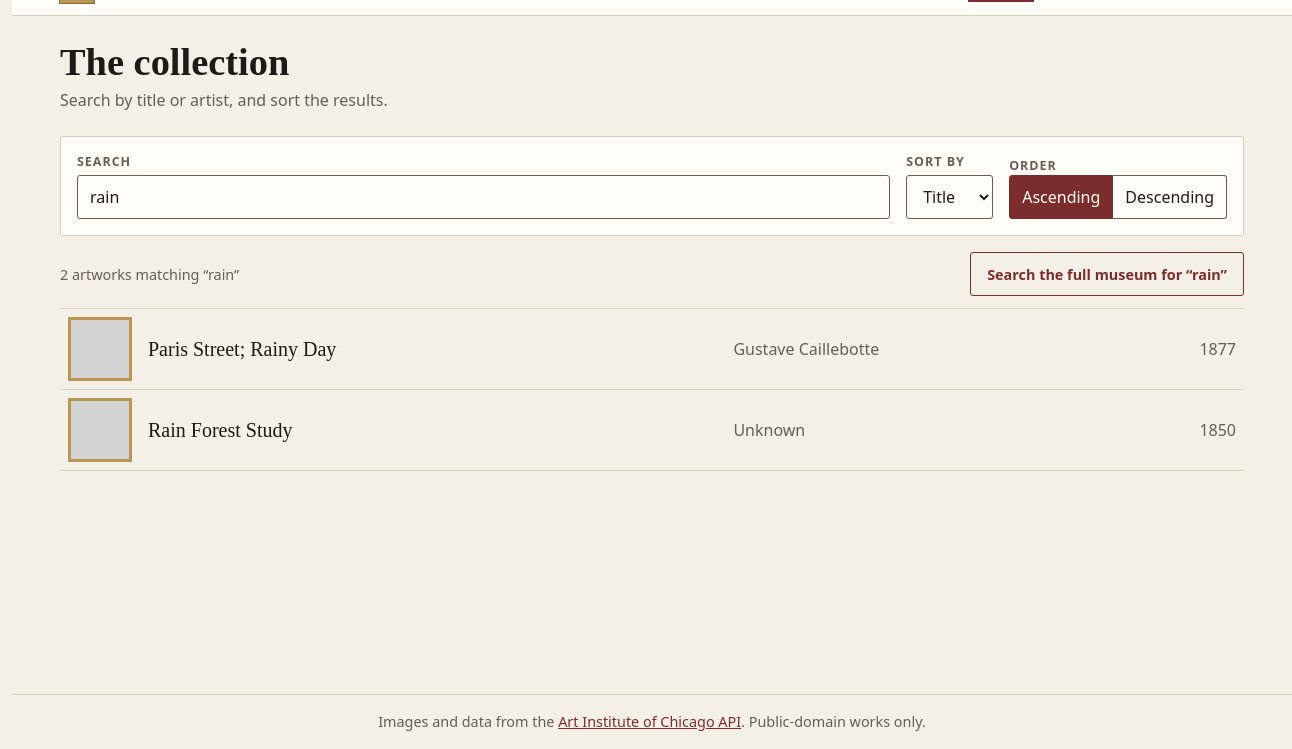
Test case: ListView › keeps the typed text when editing the middle of a search
Expected: the text "2 artworks matching “rain”" is shown, [60,264,239,285]
Type "Th" into the search field labelled "Search". click: {"x": 484, "y": 198}
box: [77,176,890,220]
(page scrolled)
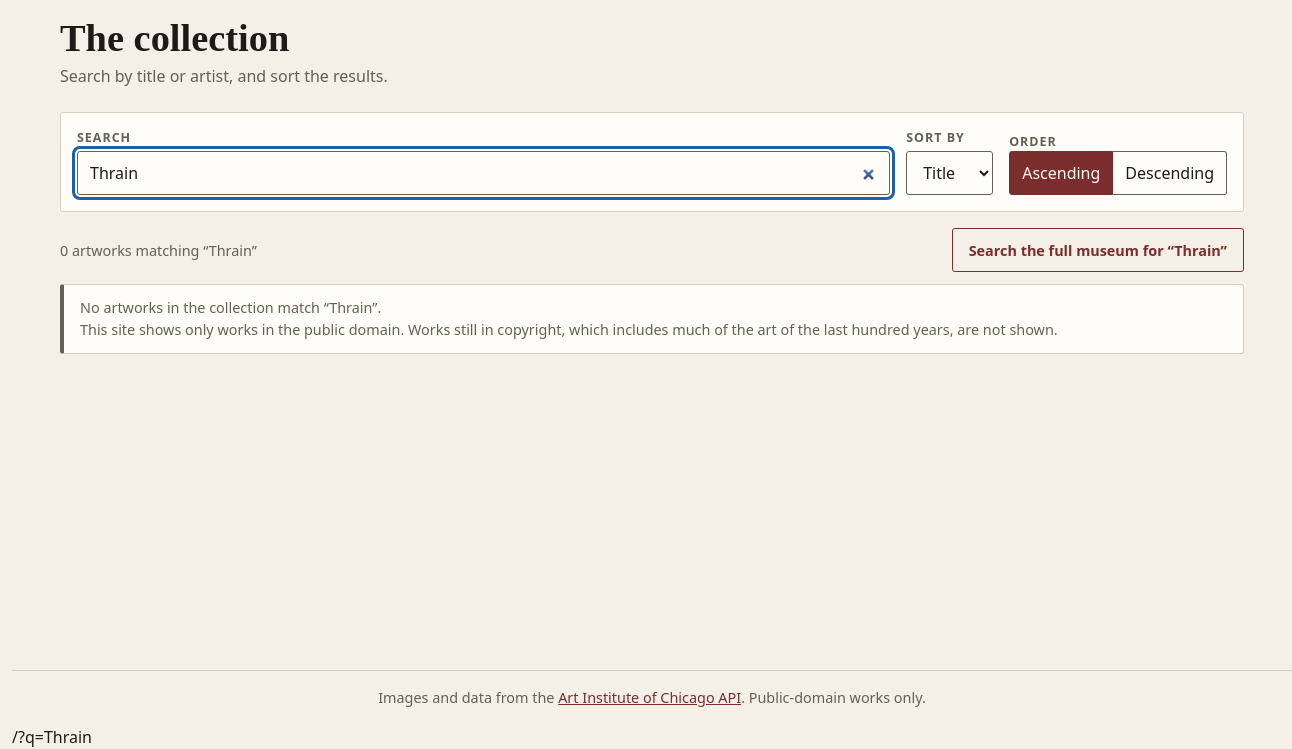
Expected: the search field labelled "Search" holds "Thrain", [77,152,890,196]
Expected: the text with test id "address" reads "/?q=Thrain", [12,726,92,748]
